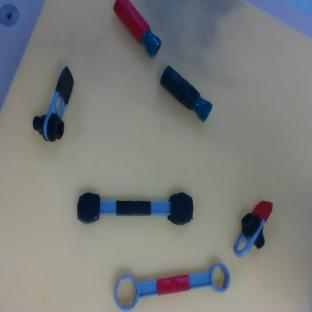part_1_bad: (28, 65, 91, 146)
part_1_good: (231, 196, 276, 263)
part_2_bad: (155, 65, 217, 123)
part_3_bad: (78, 193, 193, 226)
part_3_good: (111, 256, 233, 312)
